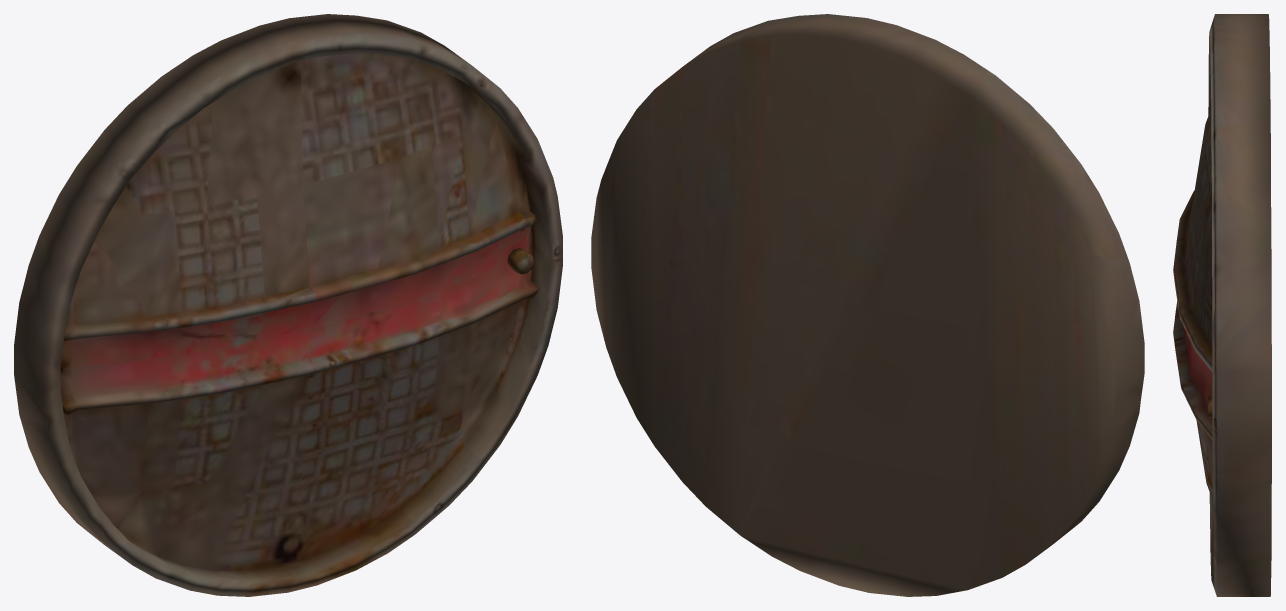
File: m_shield_round_clan.fbx
3 renders of one model, left to right at view 1: azimuth 30°, elevation 25°; view 2: azimuth 150°, elevation 25°; view 3: azimuth 270°, elevation 25°, orthographic. The views are drawn at different scales.
Parts seen in each view (by area): view 1: tripo_node_f85c38e7-6864-49ca-bc18-f52de937980b; view 2: tripo_node_f85c38e7-6864-49ca-bc18-f52de937980b; view 3: tripo_node_f85c38e7-6864-49ca-bc18-f52de937980b.
Part boxes in pixels (box(x1,y1,x2,y2)): tripo_node_f85c38e7-6864-49ca-bc18-f52de937980b: box(14, 14, 562, 596); tripo_node_f85c38e7-6864-49ca-bc18-f52de937980b: box(591, 14, 1144, 596); tripo_node_f85c38e7-6864-49ca-bc18-f52de937980b: box(1173, 14, 1271, 596).
Size of the model in its own units: 0.78 by 0.7792 by 0.1322.
1 material, 1 textured.
